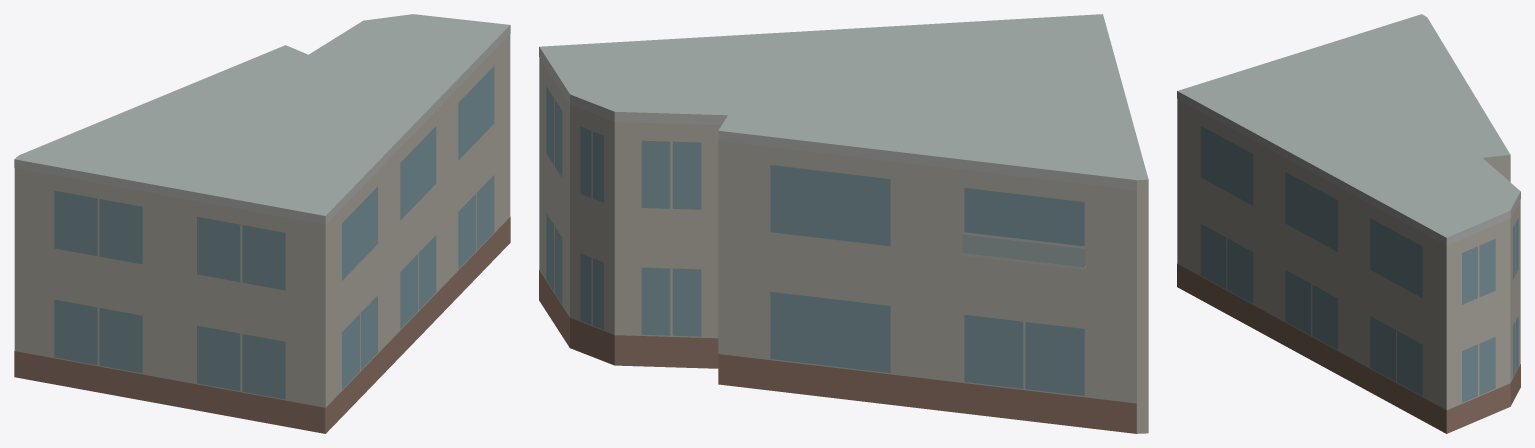
The model's file is survey-upis-32888167.glb.
3 views of the same model, side by side, from view 1: azimuth 30°, elevation 25°; view 2: azimuth 150°, elevation 25°; view 3: azimuth 270°, elevation 25° (orthographic). The views are drawn at different scales.
Visible parts, largest first — view 1: survey-upis-32888167.tmp; view 2: survey-upis-32888167.tmp; view 3: survey-upis-32888167.tmp.
Boxes of the visible parts, x1=… form: survey-upis-32888167.tmp: x1=14, y1=14, x2=510, y2=433; survey-upis-32888167.tmp: x1=539, y1=14, x2=1148, y2=433; survey-upis-32888167.tmp: x1=1177, y1=14, x2=1520, y2=433.
Bounding box in the file's own units: 14.94 × 6.1 × 9.69.
